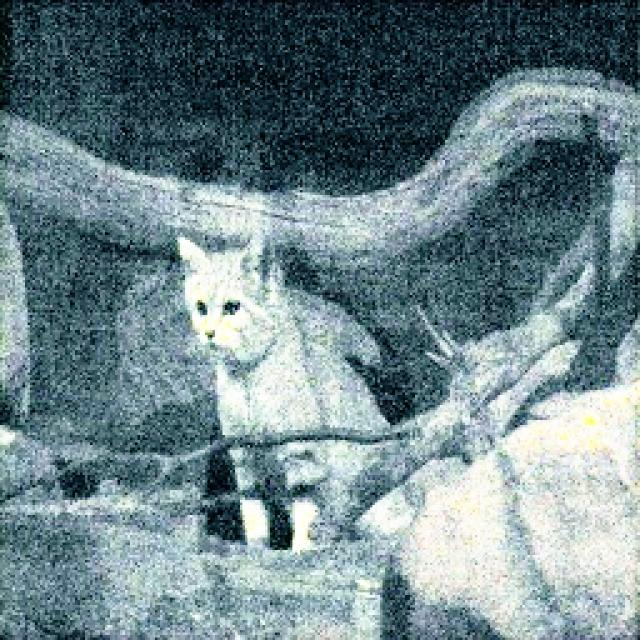cat: (167, 241, 403, 545)
